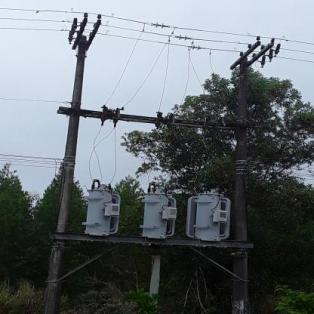Poste: (36, 34, 90, 314), (232, 60, 256, 310)
